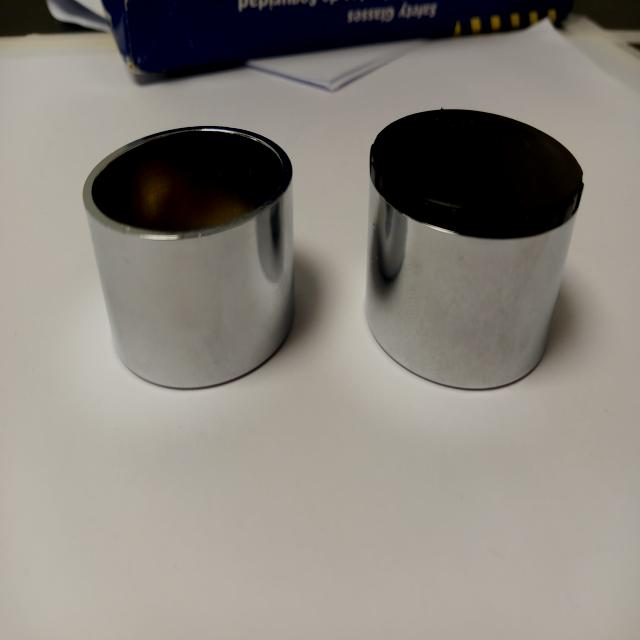NoLid: (57, 123, 315, 403)
Workpiece: (359, 90, 600, 413)
